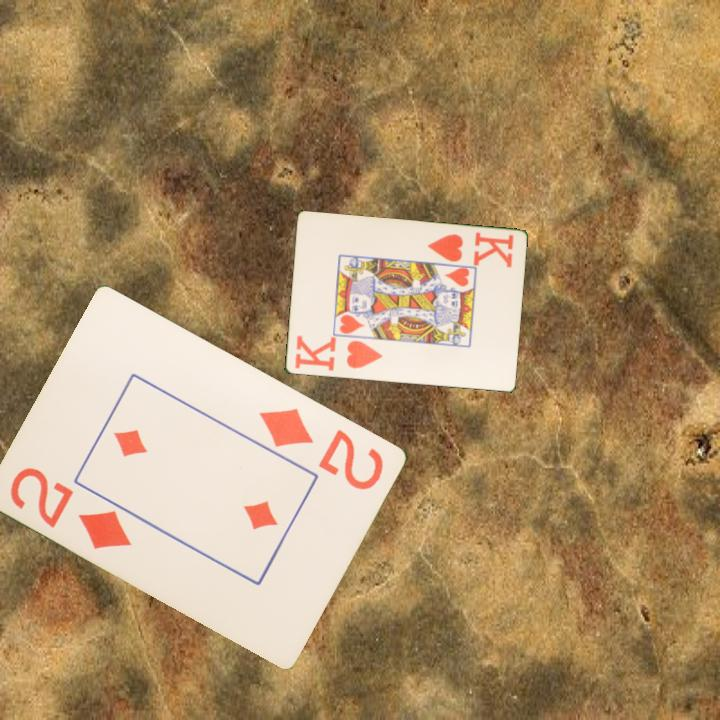2d: (256, 404, 388, 493), (7, 463, 135, 553)
Kh: (291, 333, 385, 374), (424, 229, 516, 270)
